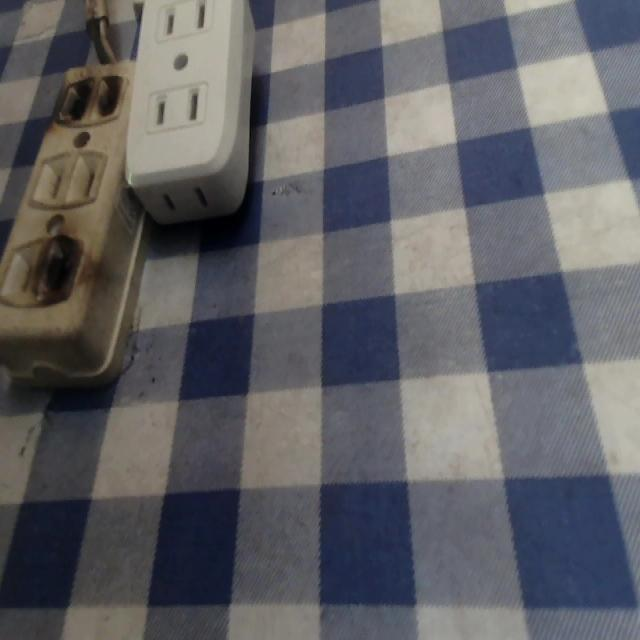-: (57, 72, 125, 127), (41, 233, 85, 304)
